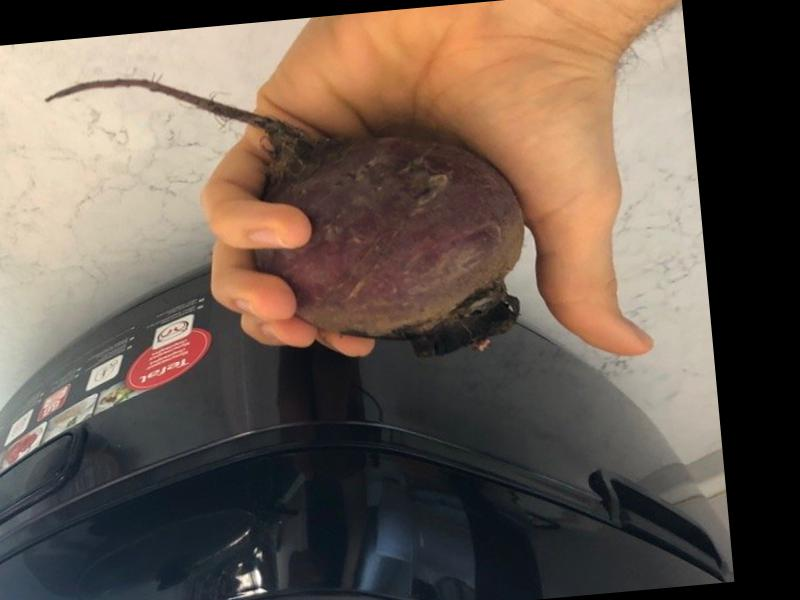Beet: (42, 42, 534, 389)
